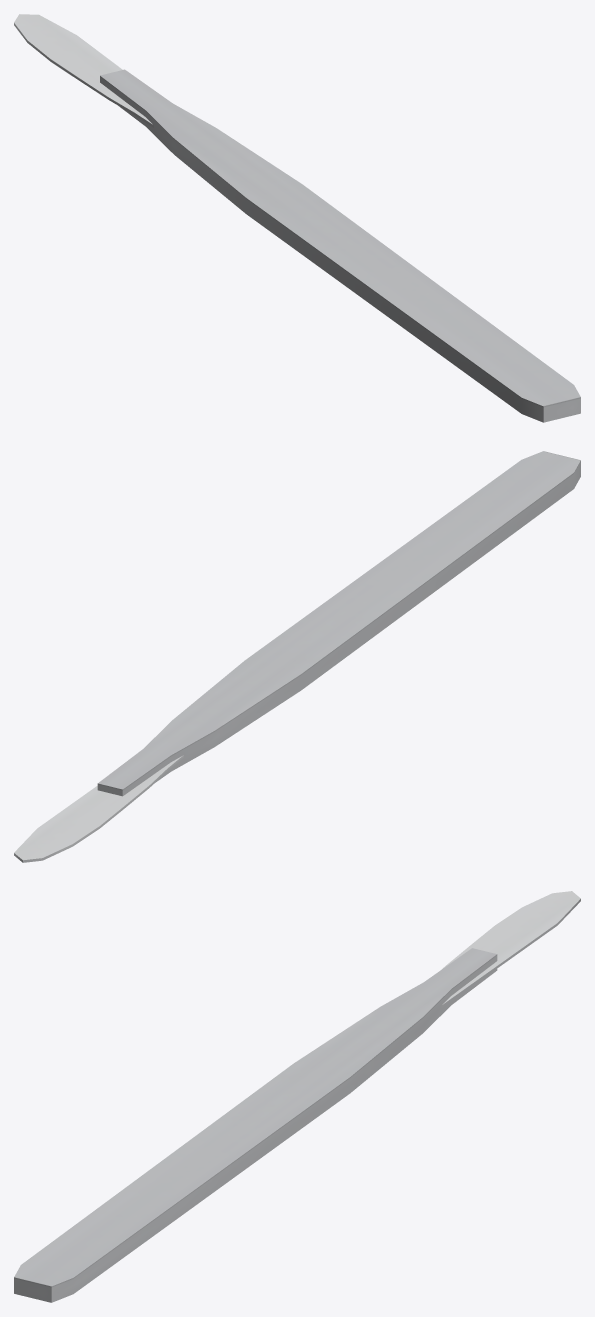
Rendered from scalpel_15.glb.
3 views of the same model, one above another, from view 1: azimuth 30°, elevation 25°; view 2: azimuth 150°, elevation 25°; view 3: azimuth 330°, elevation 25° (orthographic).
Parts seen in each view (by area): view 1: s1c_scalpel_15; view 2: s1c_scalpel_15; view 3: s1c_scalpel_15.
Part boxes in pixels (<box>): s1c_scalpel_15: <box>14,14,580,422</box>; s1c_scalpel_15: <box>14,451,580,862</box>; s1c_scalpel_15: <box>14,891,580,1302</box>.
Bounding box in the file's own units: 0.009 × 0.0025 × 0.15.
1 material, 1 textured.
